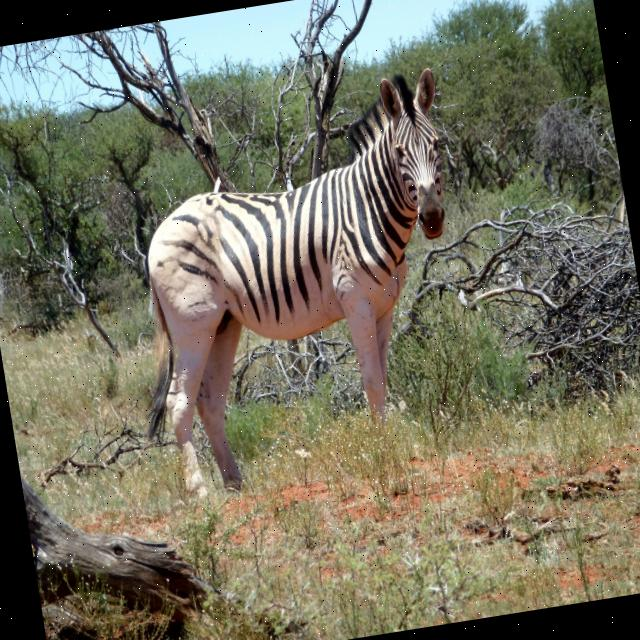Zebra: (104, 66, 493, 504)
